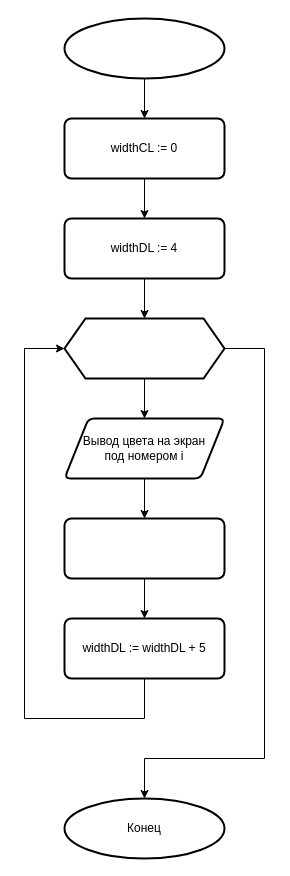
Some shapes in this 290 by 876 pixel diagram are drawn without their labels. Each missing label, with the box of its shape:
i := 0; i < 16; 1: (63, 317, 225, 379)
widthCL := widthCL + 5: (63, 517, 225, 579)
Начало: (63, 17, 225, 79)
